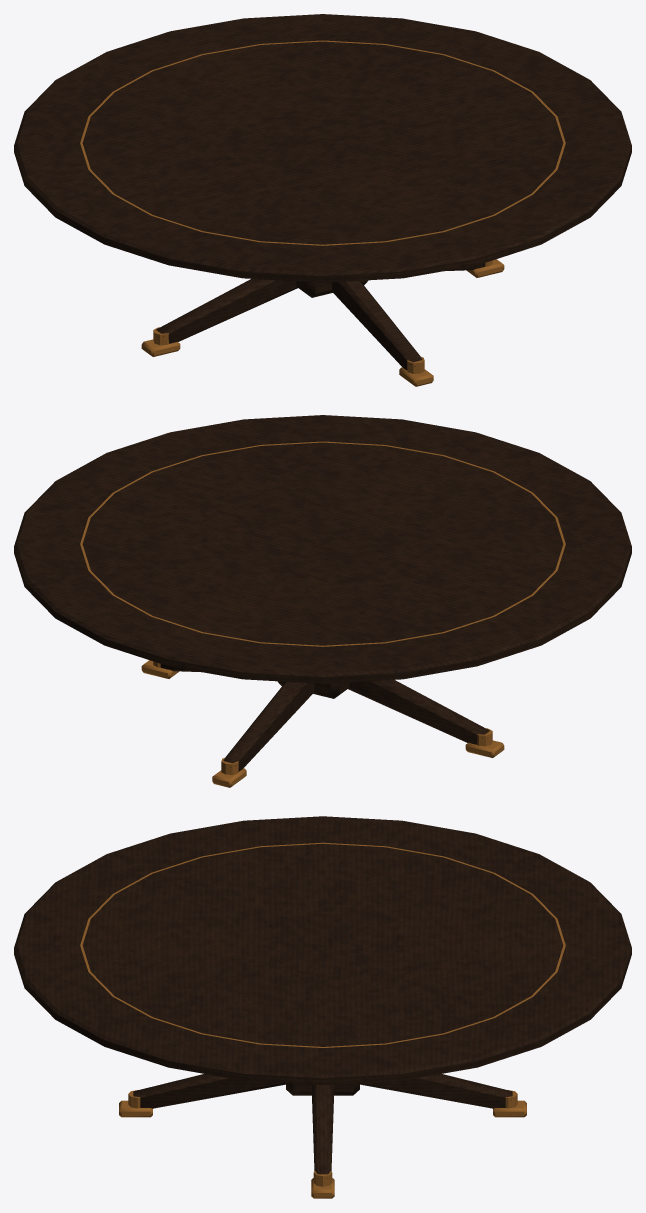
Rendered from arrival-table.lod1.glb.
3 views of the same model, one above another, from view 1: azimuth 30°, elevation 25°; view 2: azimuth 150°, elevation 25°; view 3: azimuth 270°, elevation 25° (orthographic).
Visible parts, largest first — view 1: arrival_table_Timber • oiled walnut, arrival_table_Trim • brass and bronze; view 2: arrival_table_Timber • oiled walnut, arrival_table_Trim • brass and bronze; view 3: arrival_table_Timber • oiled walnut, arrival_table_Trim • brass and bronze.
Boxes of the visible parts, box(x1,y1,x2,y2) form: arrival_table_Timber • oiled walnut: box(14, 14, 631, 370); arrival_table_Trim • brass and bronze: box(80, 40, 565, 386); arrival_table_Timber • oiled walnut: box(14, 415, 631, 771); arrival_table_Trim • brass and bronze: box(80, 441, 565, 787); arrival_table_Timber • oiled walnut: box(14, 816, 631, 1178); arrival_table_Trim • brass and bronze: box(80, 842, 565, 1198).
Size of the model in its own units: 2 by 0.6006 by 2.
2 materials, 2 textured.
